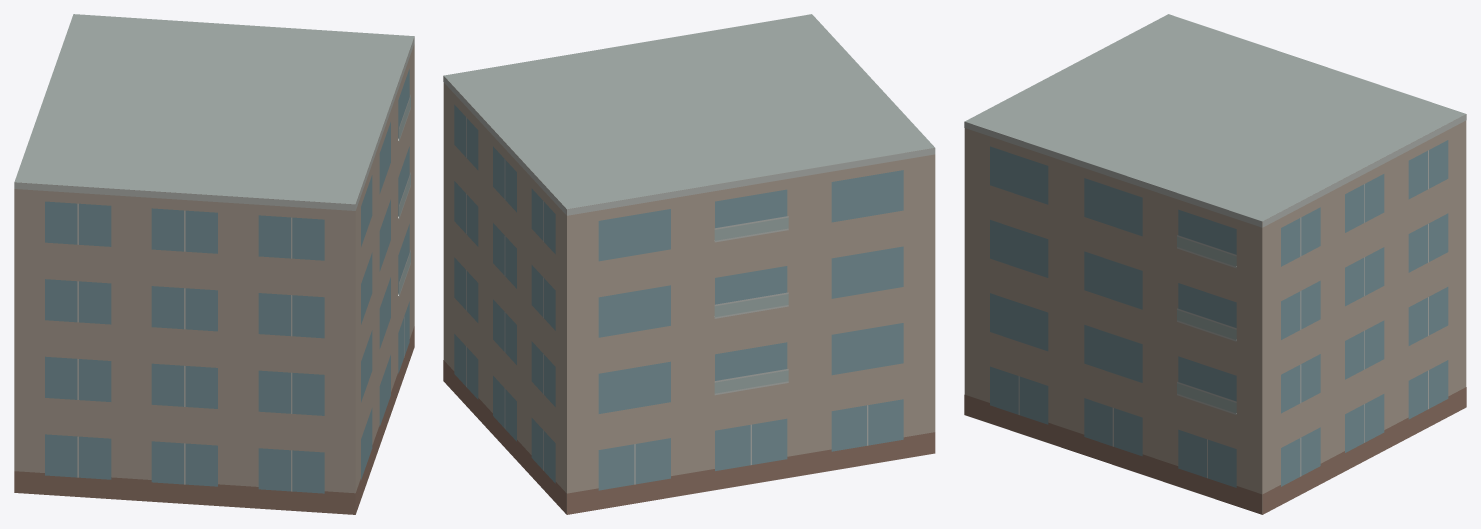
File: survey-upis-32534671.glb
The picture shows the model from 3 angles, left to right: view 1: azimuth 30°, elevation 25°; view 2: azimuth 150°, elevation 25°; view 3: azimuth 270°, elevation 25°; orthographic projection. The views are drawn at different scales.
Visible parts, largest first — view 1: survey-upis-32534671.tmp; view 2: survey-upis-32534671.tmp; view 3: survey-upis-32534671.tmp.
Boxes of the visible parts, <box> form: survey-upis-32534671.tmp: <box>14,14,414,514</box>; survey-upis-32534671.tmp: <box>443,14,935,514</box>; survey-upis-32534671.tmp: <box>964,14,1466,514</box>.
Bounding box in the file's own units: 17.31 × 11.4 × 17.69.
